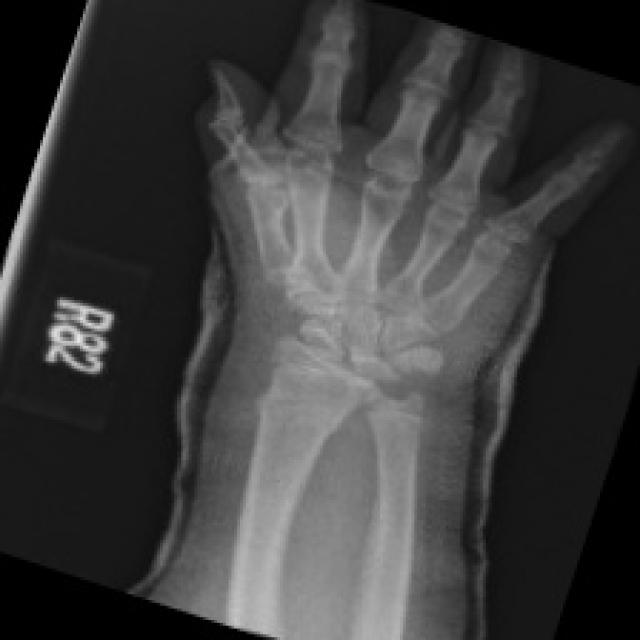fracture: (241, 367, 349, 445)
